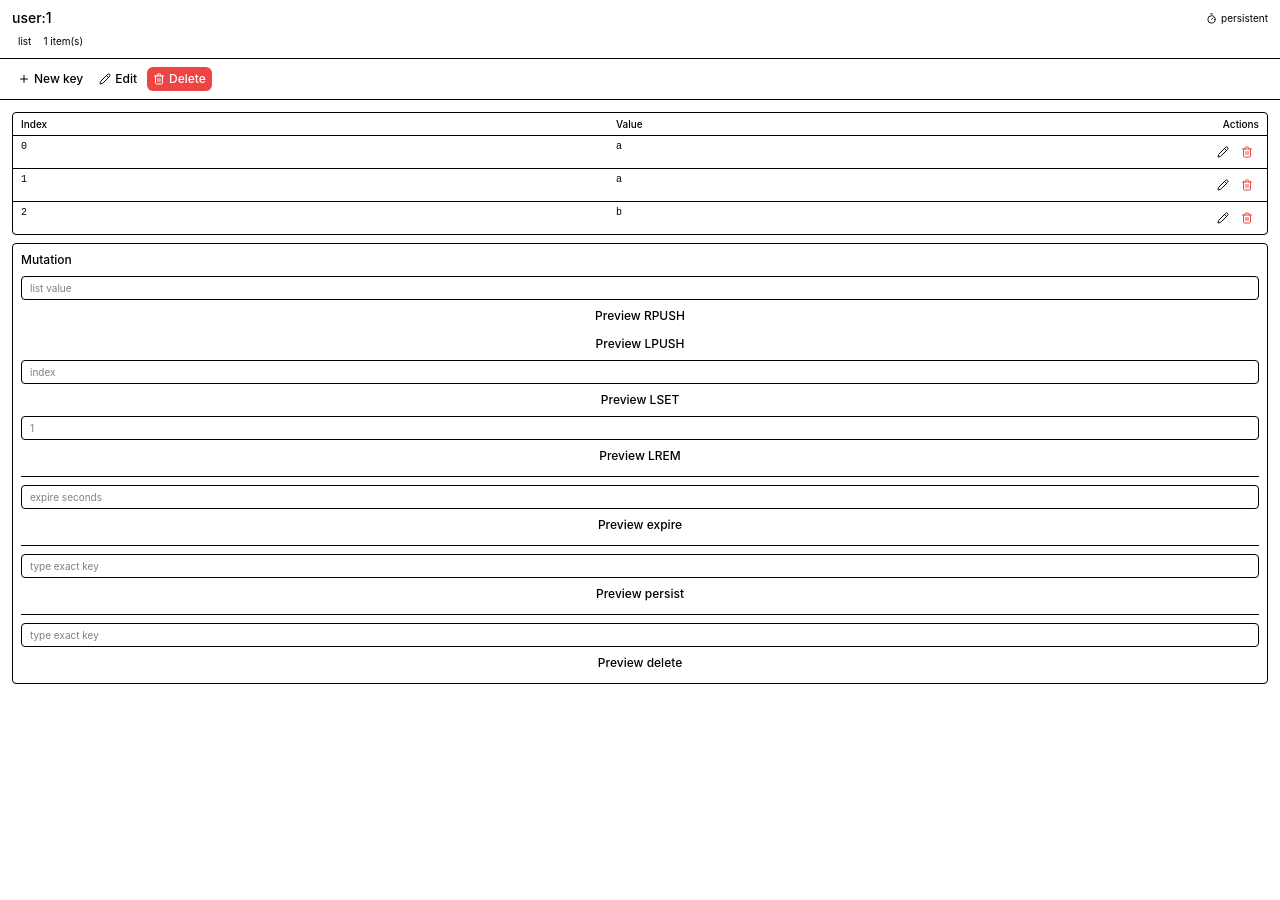
Scenario: KvKeyDetailPanel inline entry CRUD › warns that a duplicated list value removes the first match
This screenshot has width=1280, height=900.
Expected: the table is shown, 13,113 -> 1267,234
What coordinates should you click on to do the following:
click the button named "Delete 1"
I would click on:
 (1247, 185)
Its box is 1235,173 -> 1259,197.
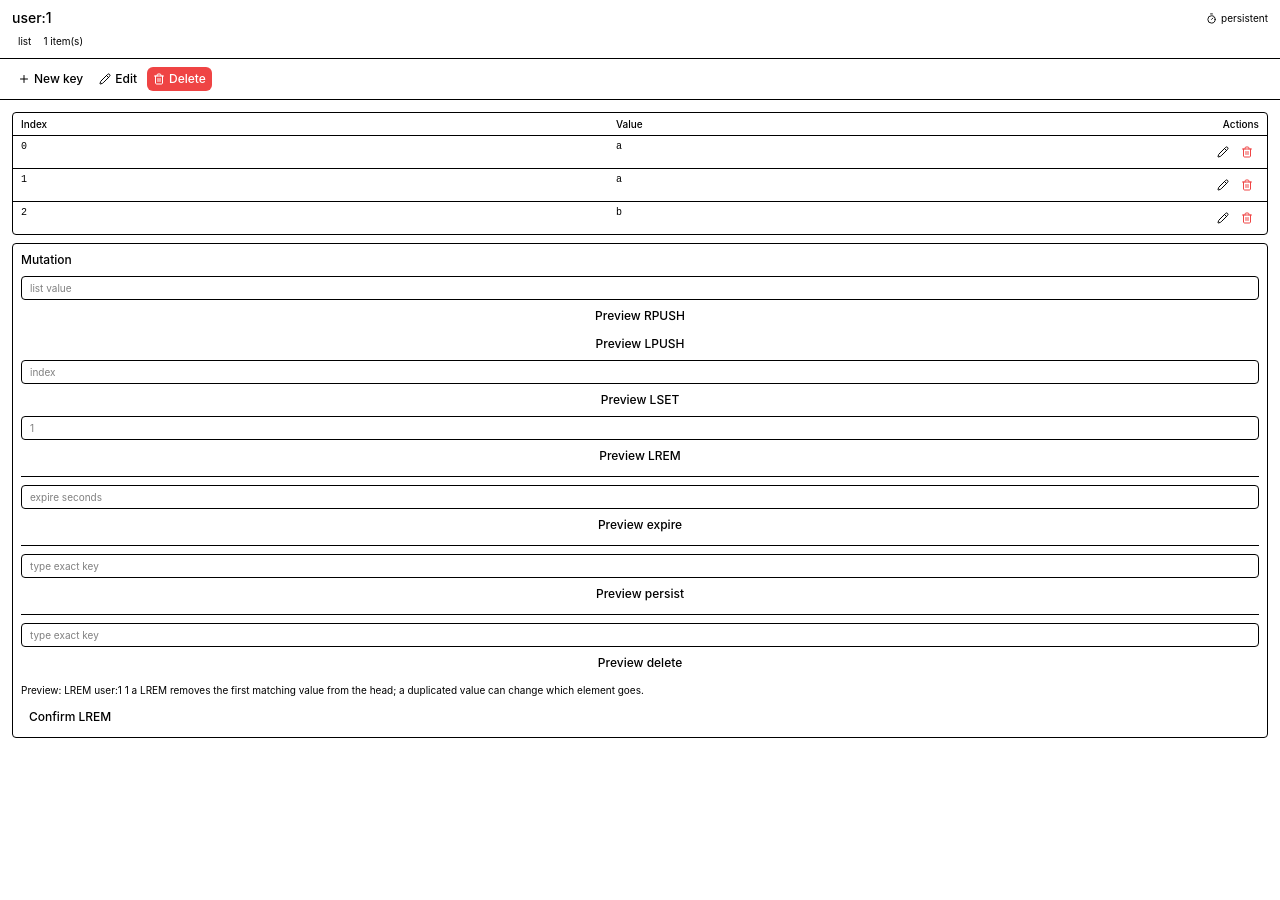
Now the message shows "LREM user:1 1 a", box 21,684 -> 644,696
Now the message shows "first matching value", box 21,684 -> 644,696
